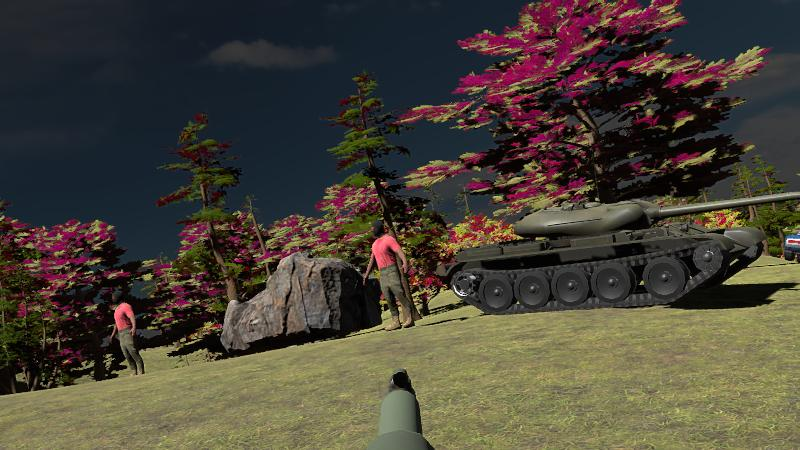Human: (363, 219, 417, 331), (111, 288, 145, 378)
Tank: (440, 189, 799, 316)
car: (783, 224, 800, 264)
